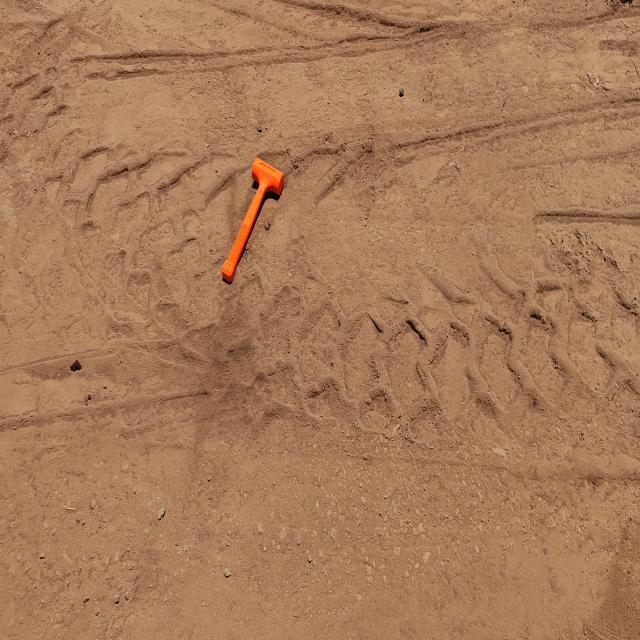Orange_hammer: (221, 155, 284, 285)
